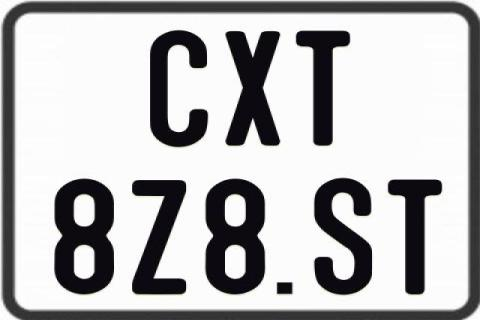0: (54, 179, 117, 299), (203, 178, 267, 294)
C: (149, 29, 207, 150)
S: (311, 178, 369, 300)
T: (386, 177, 446, 292), (295, 28, 353, 144)
X: (225, 29, 279, 144)
Z: (130, 178, 186, 294)
